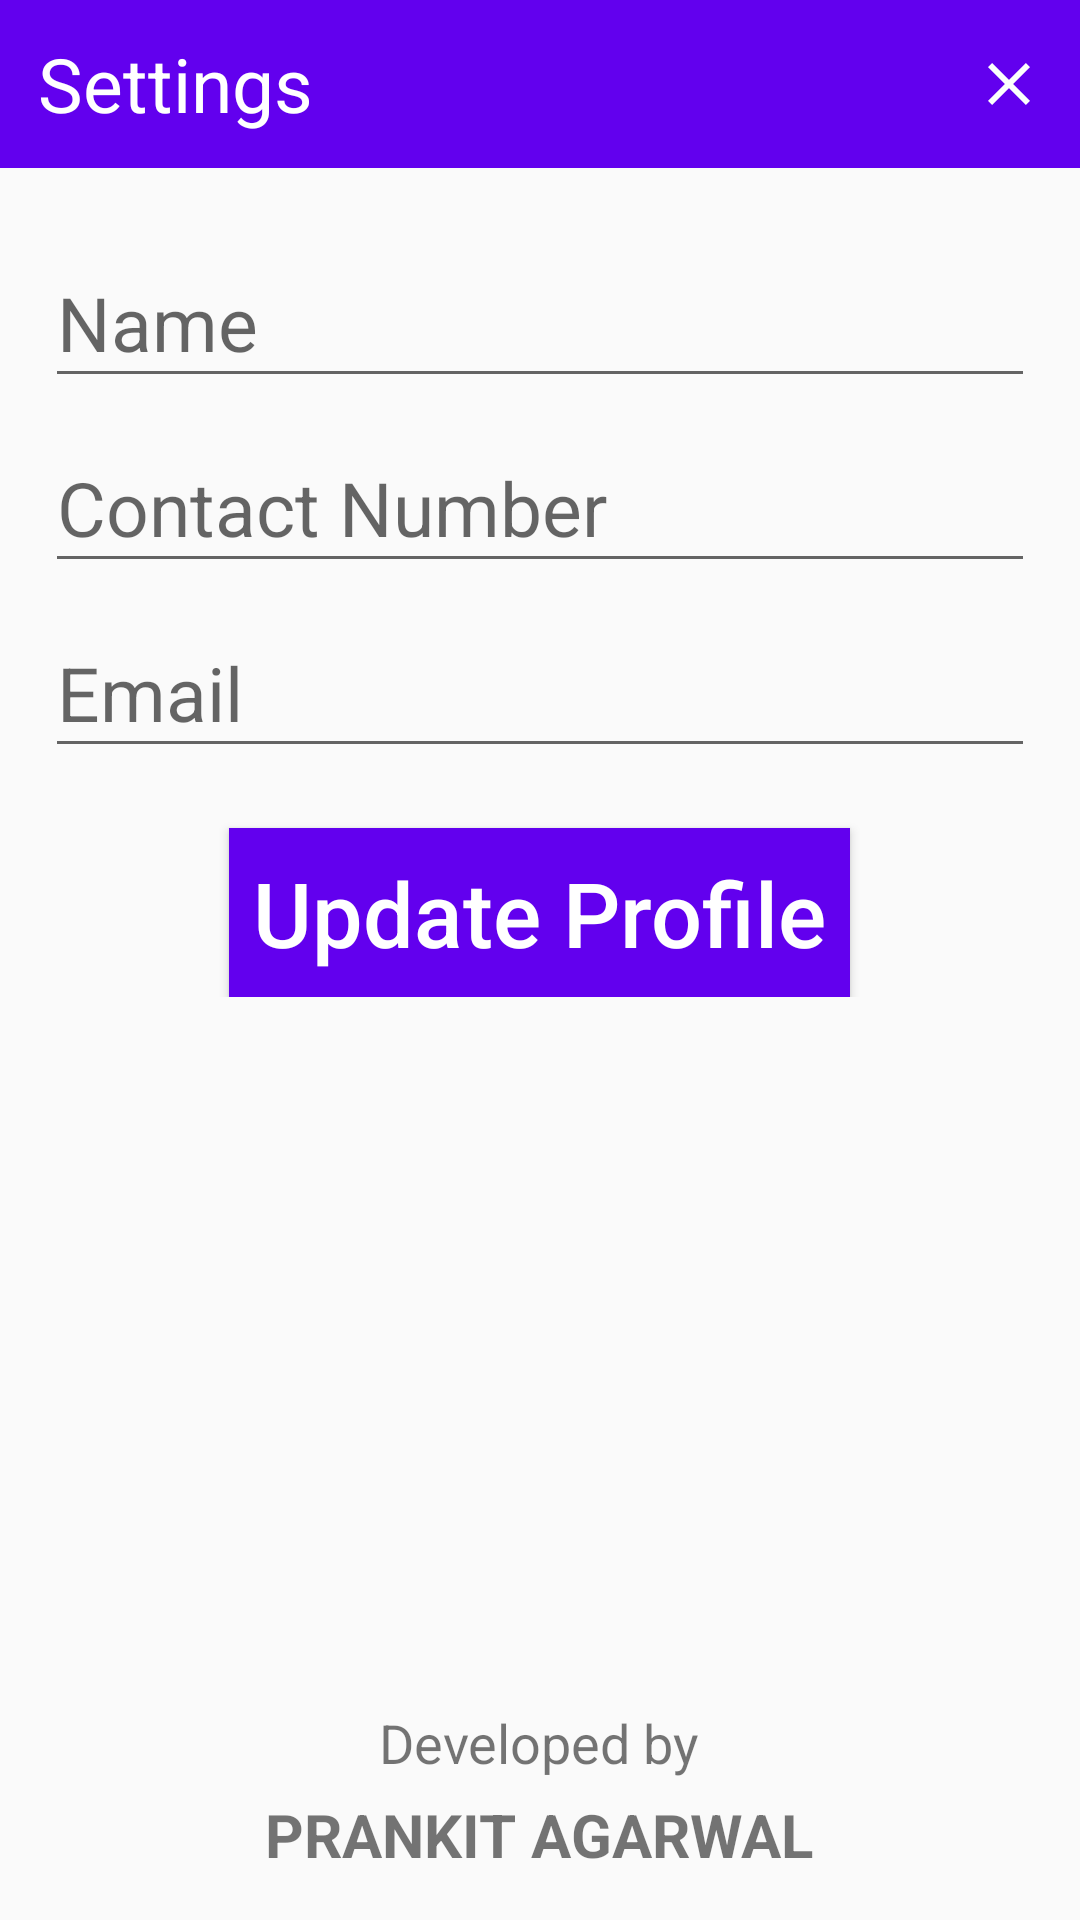

Icon click points for this 1080px x 1920px phone screenshot, format (x,y):
close: (1009,84)
